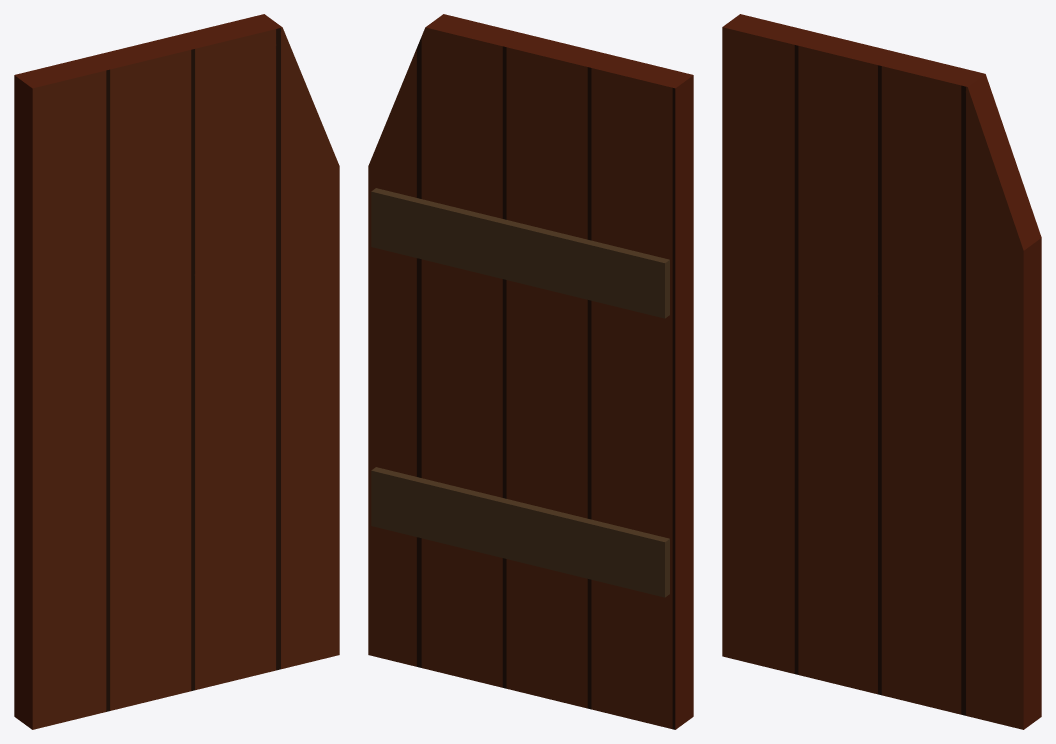
File: gate_door_right.glb
The picture shows the model from 3 angles, left to right: view 1: azimuth 30°, elevation 25°; view 2: azimuth 150°, elevation 25°; view 3: azimuth 330°, elevation 25°; orthographic projection.
Visible parts, largest first — view 1: Ortam_1; view 2: Ortam_1; view 3: Ortam_1.
Boxes of the visible parts, <box> form: Ortam_1: <box>14,14,339,729</box>; Ortam_1: <box>368,14,693,729</box>; Ortam_1: <box>722,14,1041,729</box>.
Size of the model in its own units: 0.6536 by 1.3 by 0.0855.
3 materials, 3 textured.
